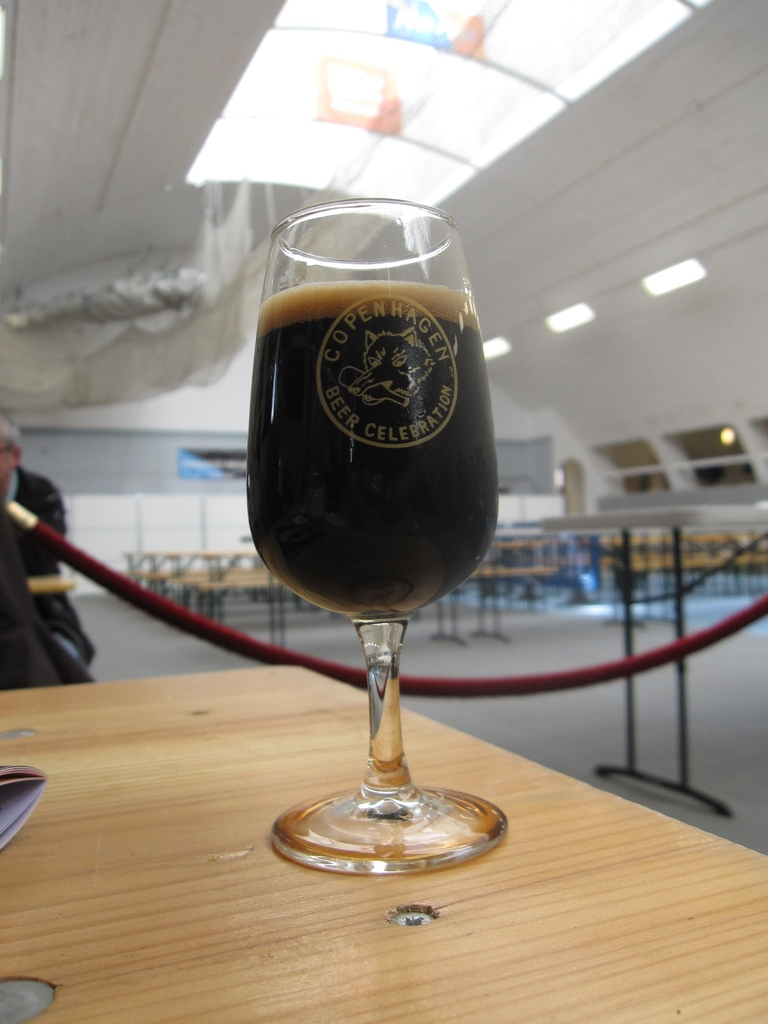Beer: (218, 195, 529, 903)
